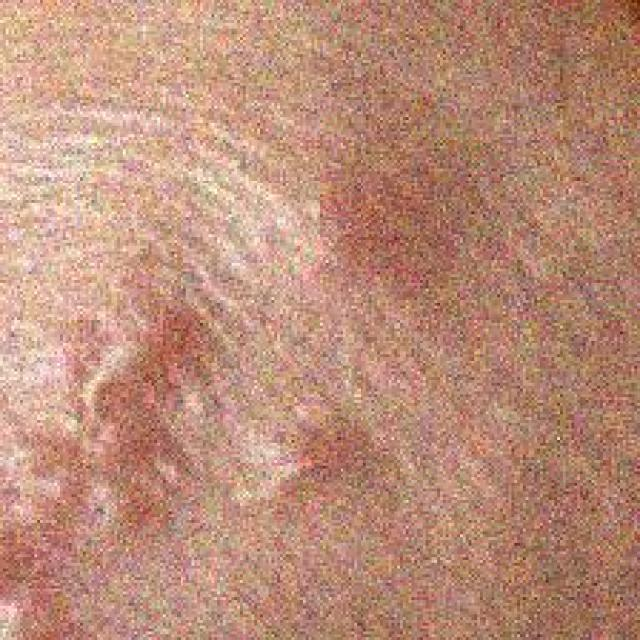monkeypox: (9, 62, 479, 640)
